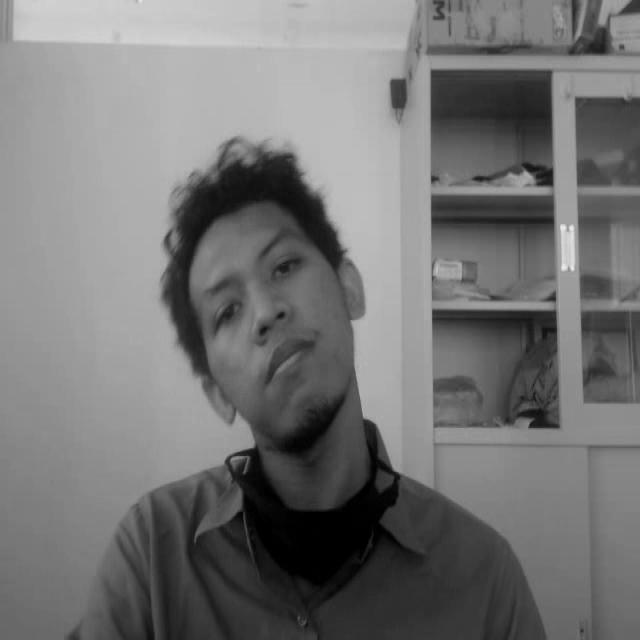real: (154, 126, 366, 454)
